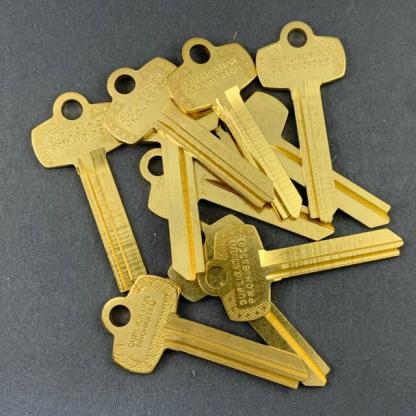key: (29, 22, 404, 387)
